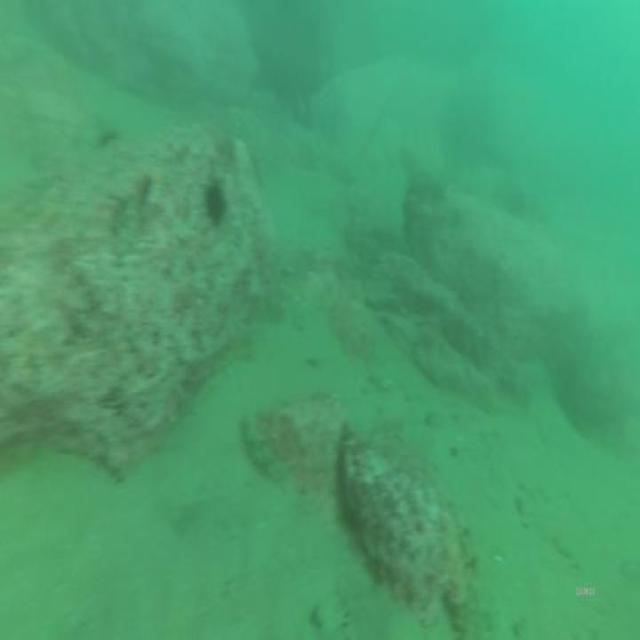echinus: (203, 175, 231, 232)
